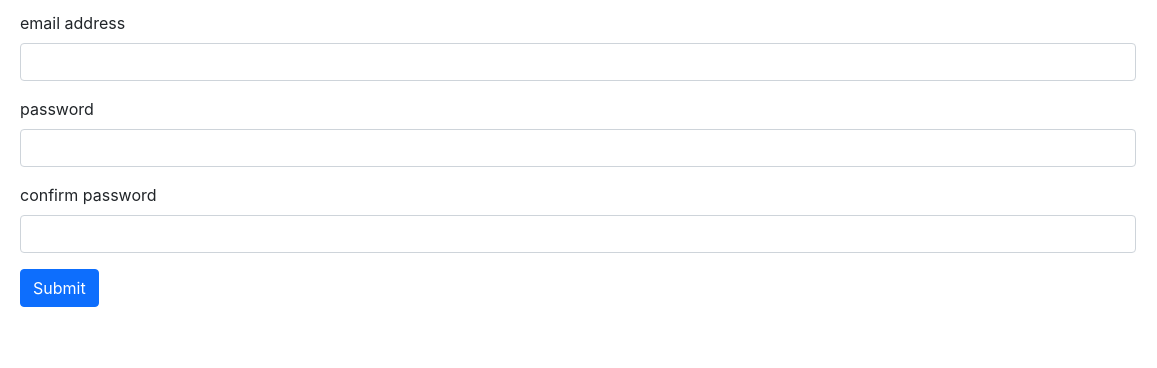
Test: Signup-form › Should show error message › should show password error is password is less than 5 characters
Step 1. Type "masoud@gmail.com" into the field labelled "email address" → (578, 62), box x1=20 y1=43 x2=1136 y2=81
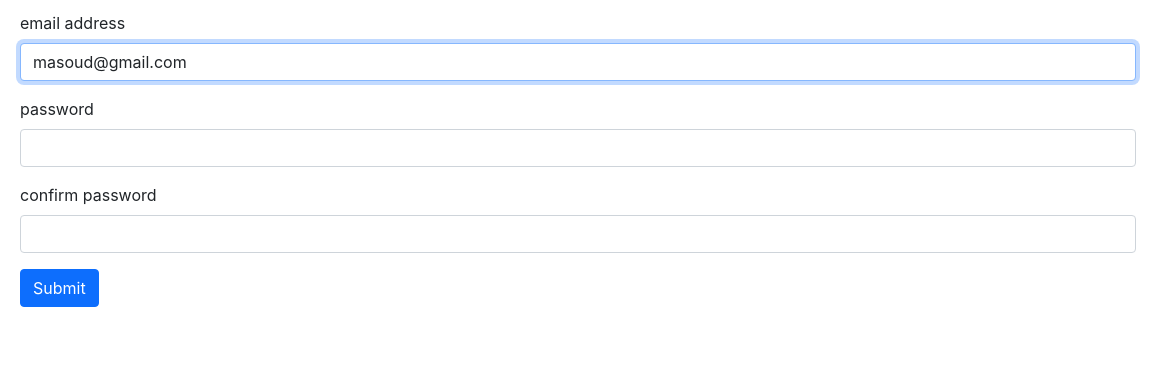
Step 2. Type "123" into the password field labelled "password" → (578, 148), box x1=20 y1=129 x2=1136 y2=167
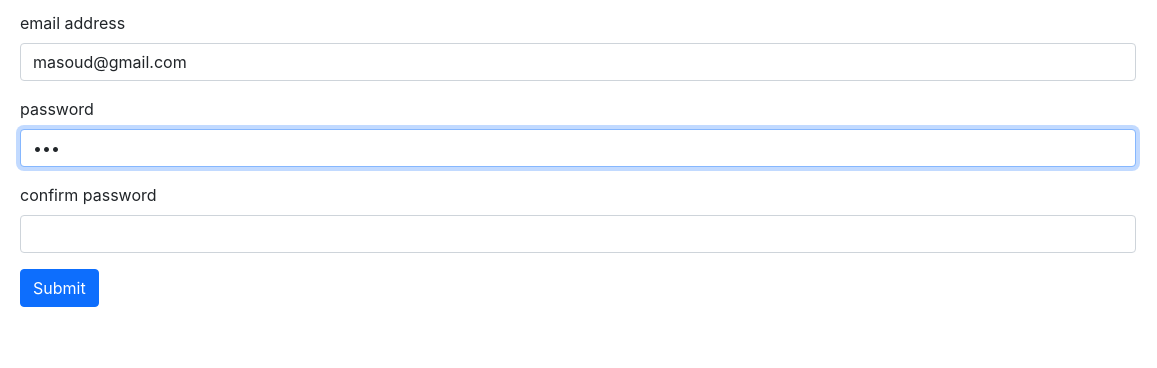
Step 3. Click the button "Submit" → (59, 288), box x1=20 y1=269 x2=99 y2=307
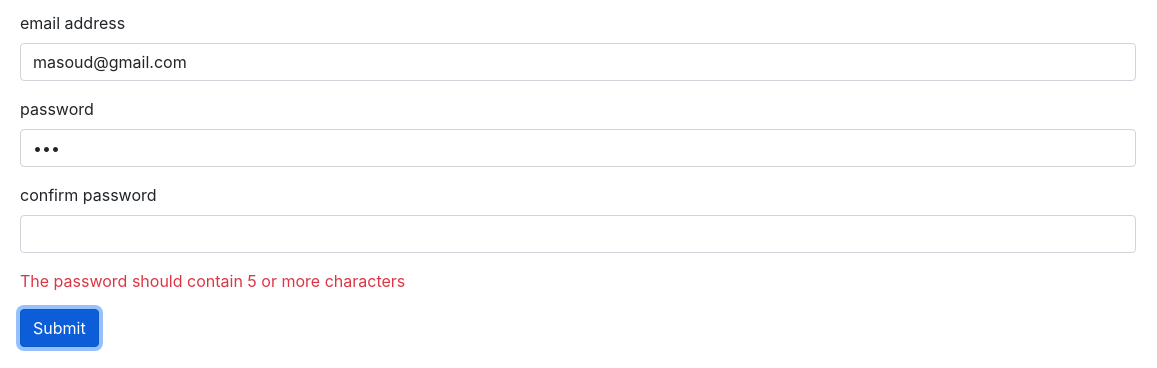
Expected: the text "The password should contain 5 or more characters" is shown, x1=20 y1=271 x2=405 y2=291
